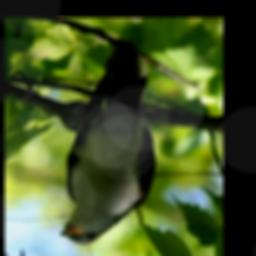Cuckoo: (60, 41, 158, 245)
